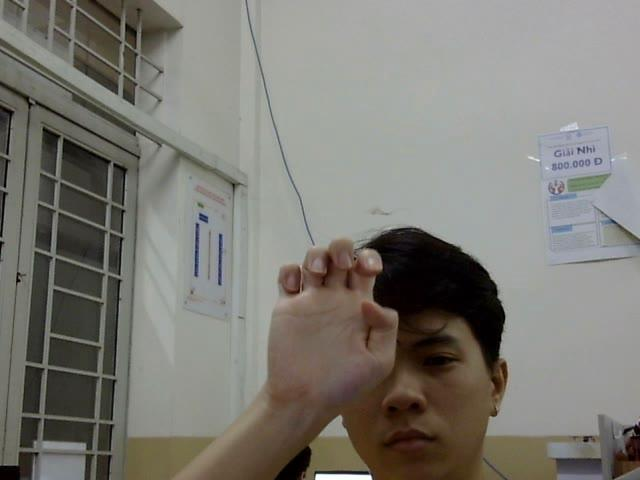E: (264, 234, 397, 404)
